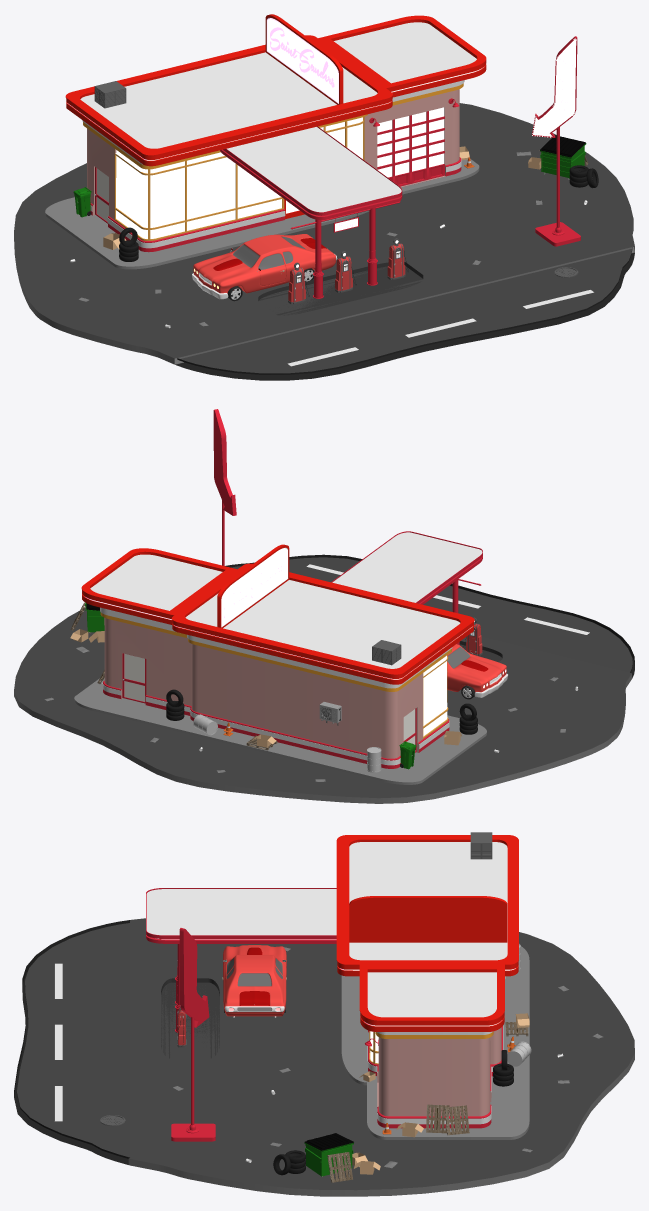
3 views of the same model, one above another, from view 1: azimuth 30°, elevation 25°; view 2: azimuth 150°, elevation 25°; view 3: azimuth 270°, elevation 25° (orthographic). The views are drawn at different scales.
Visible parts, largest first — view 1: Place_33, Gas Station_24, Part Of Gas Station _28, Foundation _25, Car_6, Advertising Sign_11, Signboard_30, Foundation(2) _26, Gas Pumps_44, Trash Pack.001_42, Columns _27, line_34 (+6 smaller); view 2: Gas Station_24, Place_33, Foundation _25, Part Of Gas Station _28, Signboard_30, Car_6, Advertising Sign_11, Door_23, Box_13, Saint Sanders_38, Ventilation_46, line_34; view 3: Place_33, Gas Station_24, Part Of Gas Station _28, Foundation _25, Signboard_30, Car_6, Advertising Sign_11, Foundation(2) _26, Trash Pack.001_42, Box_13, line_34, Wheels(2)_17 (+5 smaller).
Part boxes in pixels (box(x1,y1,x2,y2)): Place_33: box(14, 103, 634, 380); Gas Station_24: box(65, 15, 486, 252); Part Of Gas Station _28: box(220, 126, 402, 220); Foundation _25: box(45, 159, 479, 269); Car_6: box(192, 234, 337, 301); Advertising Sign_11: box(532, 36, 580, 246); Signboard_30: box(265, 14, 343, 104); Foundation(2) _26: box(258, 262, 423, 315); Gas Pumps_44: box(288, 238, 408, 304); Trash Pack.001_42: box(540, 135, 586, 179); Columns _27: box(313, 207, 377, 298); line_34: box(287, 290, 593, 366); Gas Station_24: box(81, 548, 474, 768); Place_33: box(14, 554, 634, 803); Foundation _25: box(74, 678, 486, 784); Part Of Gas Station _28: box(331, 531, 482, 604); Signboard_30: box(217, 544, 289, 628); Car_6: box(447, 644, 507, 699); Advertising Sign_11: box(213, 409, 236, 565); Door_23: box(122, 653, 146, 703); Box_13: box(70, 629, 461, 747); Saint Sanders_38: box(224, 555, 284, 618); Ventilation_46: box(372, 640, 401, 665); line_34: box(306, 564, 589, 634); Place_33: box(14, 918, 634, 1196); Gas Station_24: box(336, 835, 518, 1128); Part Of Gas Station _28: box(146, 888, 336, 943); Foundation _25: box(341, 946, 529, 1139); Signboard_30: box(349, 896, 507, 942); Car_6: box(222, 945, 286, 1017); Advertising Sign_11: box(171, 928, 215, 1141); Foundation(2) _26: box(161, 978, 219, 1058); Trash Pack.001_42: box(304, 1133, 353, 1177); Box_13: box(352, 1013, 529, 1174); line_34: box(54, 963, 62, 1121); Wheels(2)_17: box(273, 1150, 305, 1175).
Bounding box in the file's own units: 8.6 × 2.94 × 7.56.
70 materials, 2 textured.
